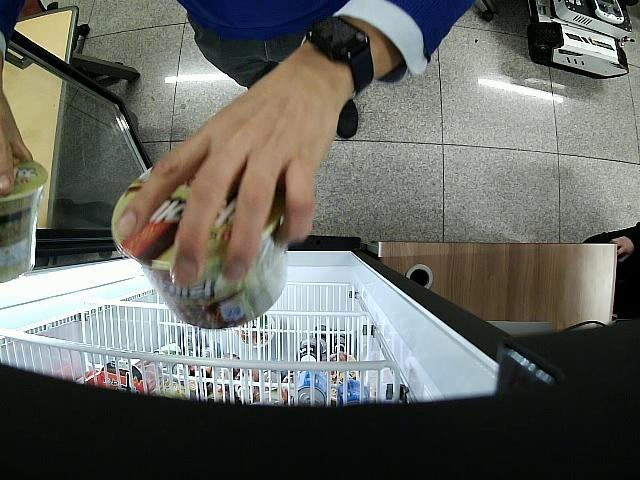03_chapagetti_L: (112, 166, 286, 328), (0, 158, 48, 284)
